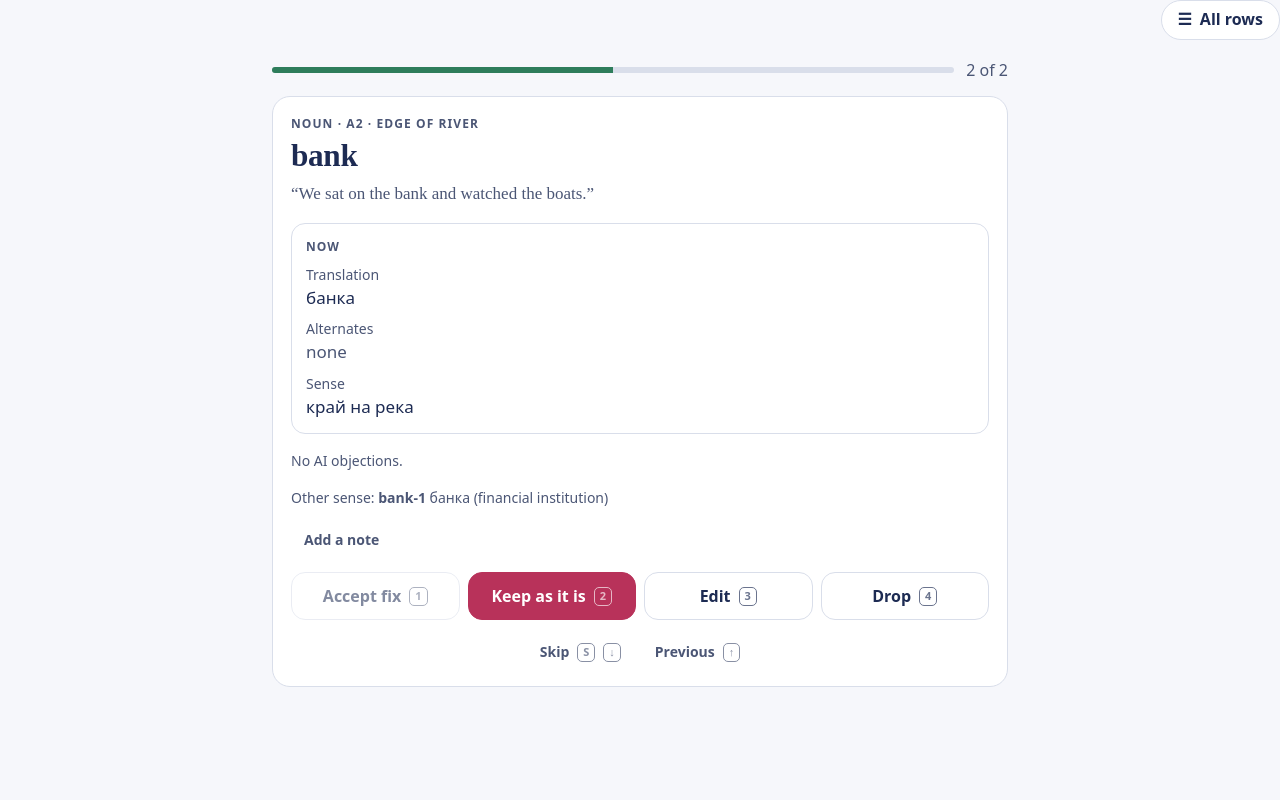
Test: ReviewScreen › keeps a decided row that was opened from the list
The width and height of the screenshot is (1280, 800).
Step 1. Click the button "☰ All rows" → click(1220, 20), box [1160, 0, 1279, 40]
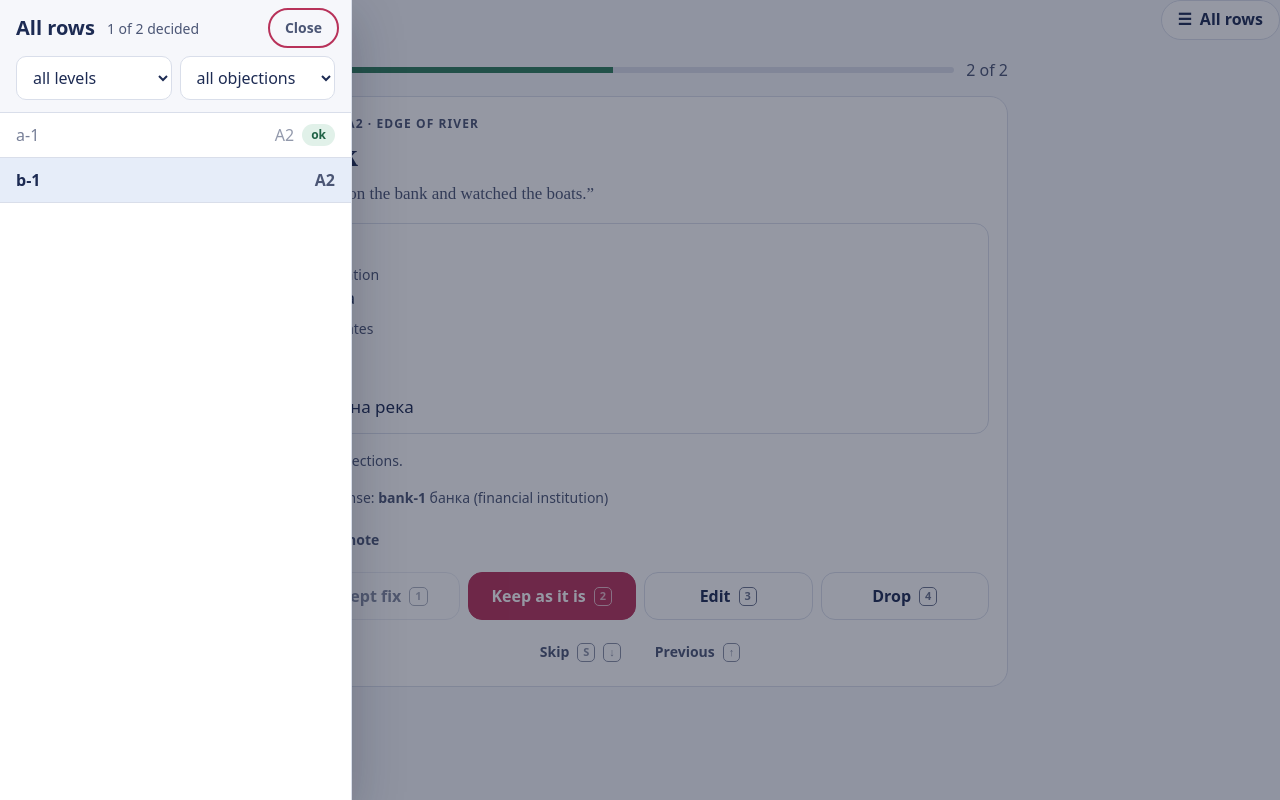
Step 2. Click the button "a-1 A2 ok" → click(319, 135), box [0, 113, 351, 157]
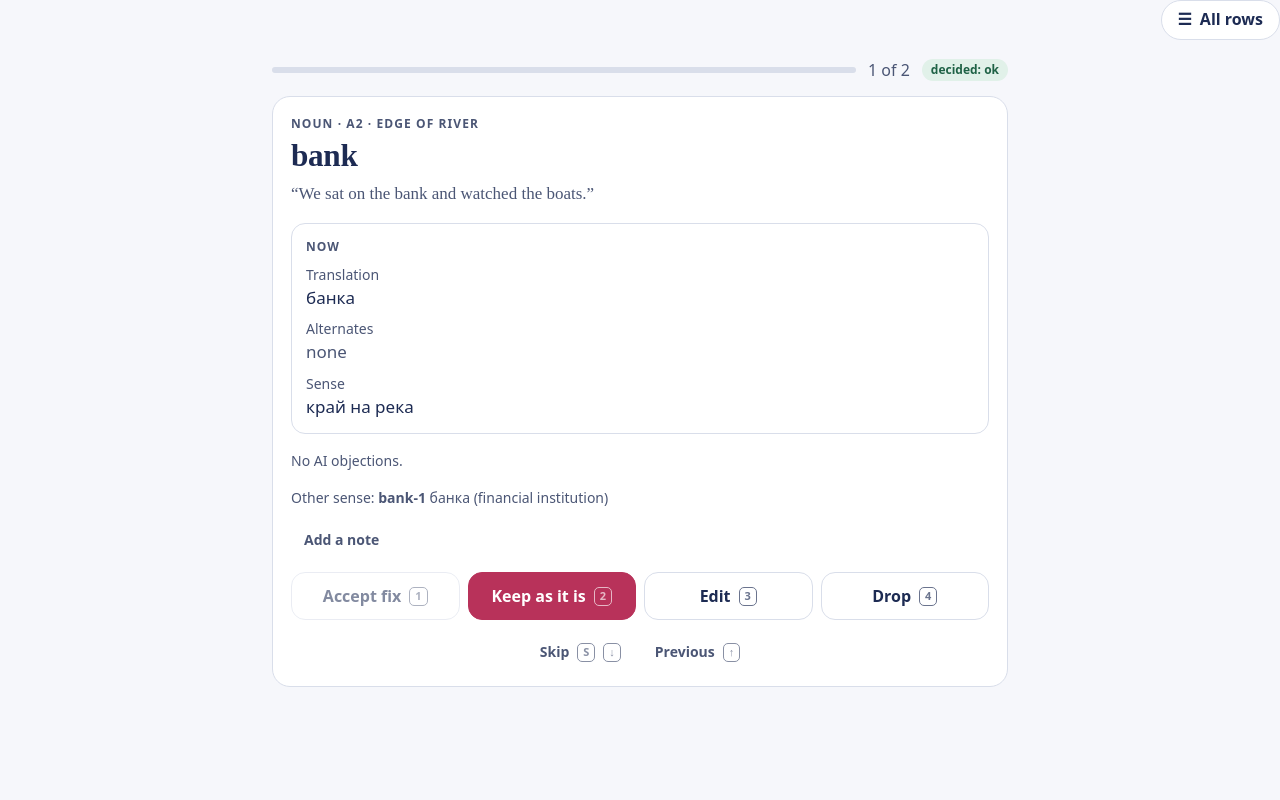
Check: the element named "Row a-1" is shown, box [272, 58, 1008, 687]
